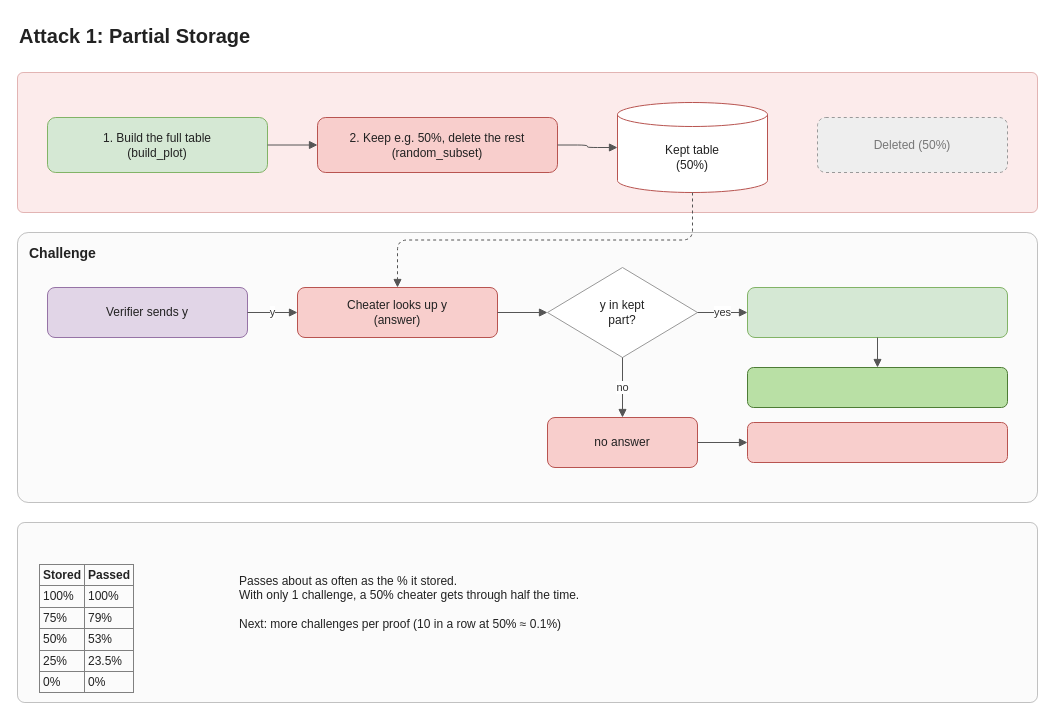
Some shapes in this 1055 by 724 pixel diagram are drawn without their labels. Each missing label, with the box of its shape:
Accepted: (746, 366, 1008, 408)
Rejected: (746, 422, 1008, 462)
Results (N = 4096, 200 challenges): (16, 522, 1038, 702)
returns x: (746, 286, 1008, 338)
Setup: (16, 72, 1038, 212)
